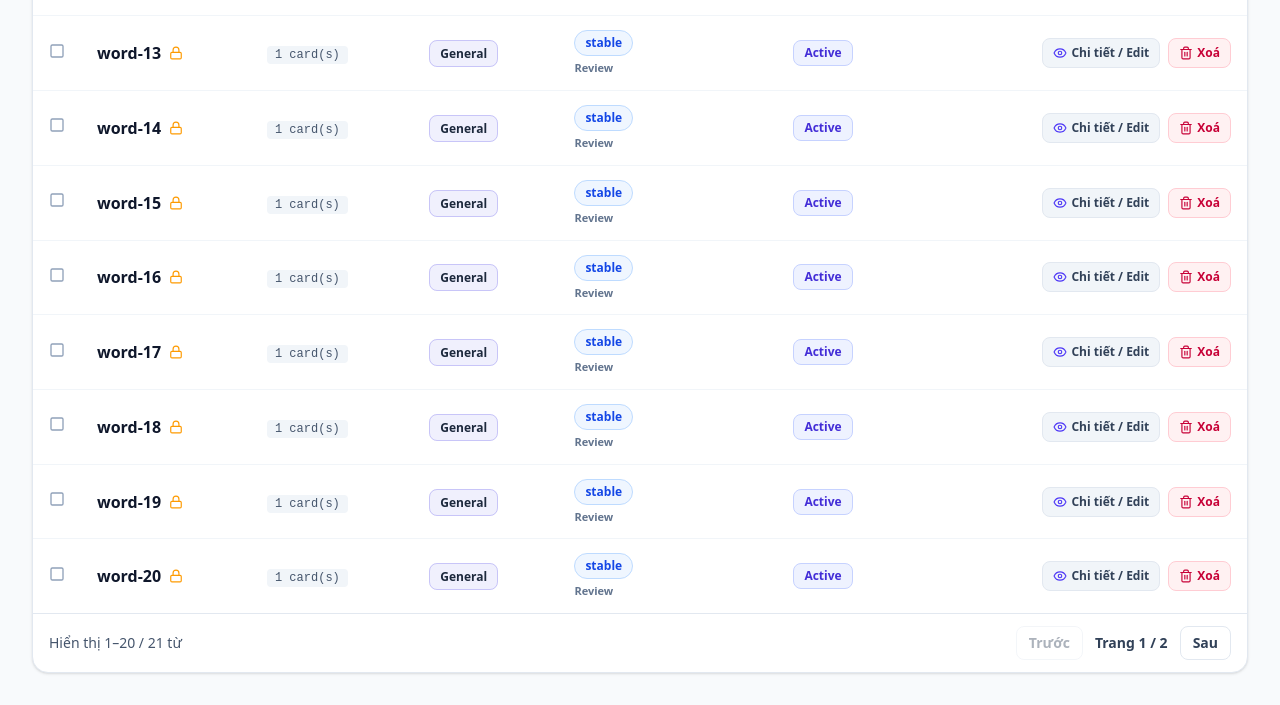
VocabularyLibraryView › shows 20 rows per page and navigates to the remaining rows
(page scrolled)
Check: the text "Trang 1 / 2" is shown, box left=1095, top=633, right=1168, bottom=653
Step 1. Click the button with aria-label "Trang sau" → (1205, 643), box left=1180, top=626, right=1231, bottom=660
(page scrolled)
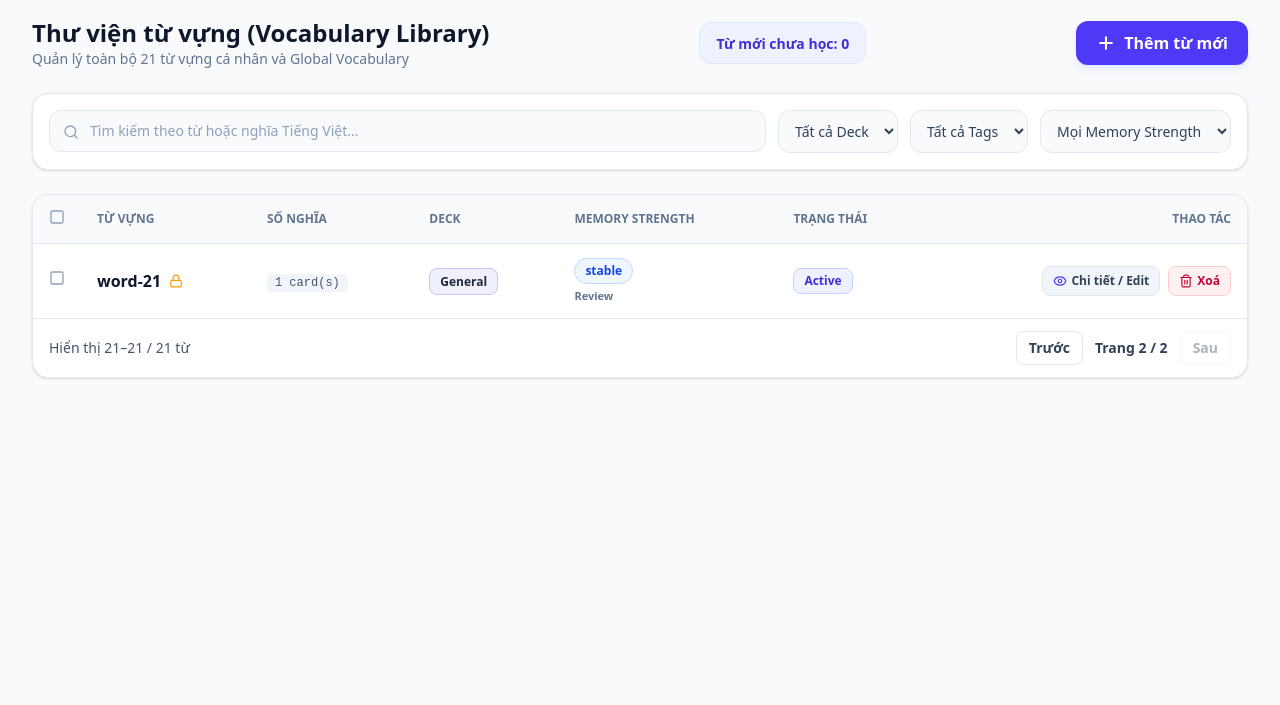
Check: the number of elements with test id "vocabulary-word" is 1, box left=97, top=270, right=161, bottom=292
Check: the text "Trang 2 / 2" is shown, box left=1095, top=338, right=1168, bottom=358
